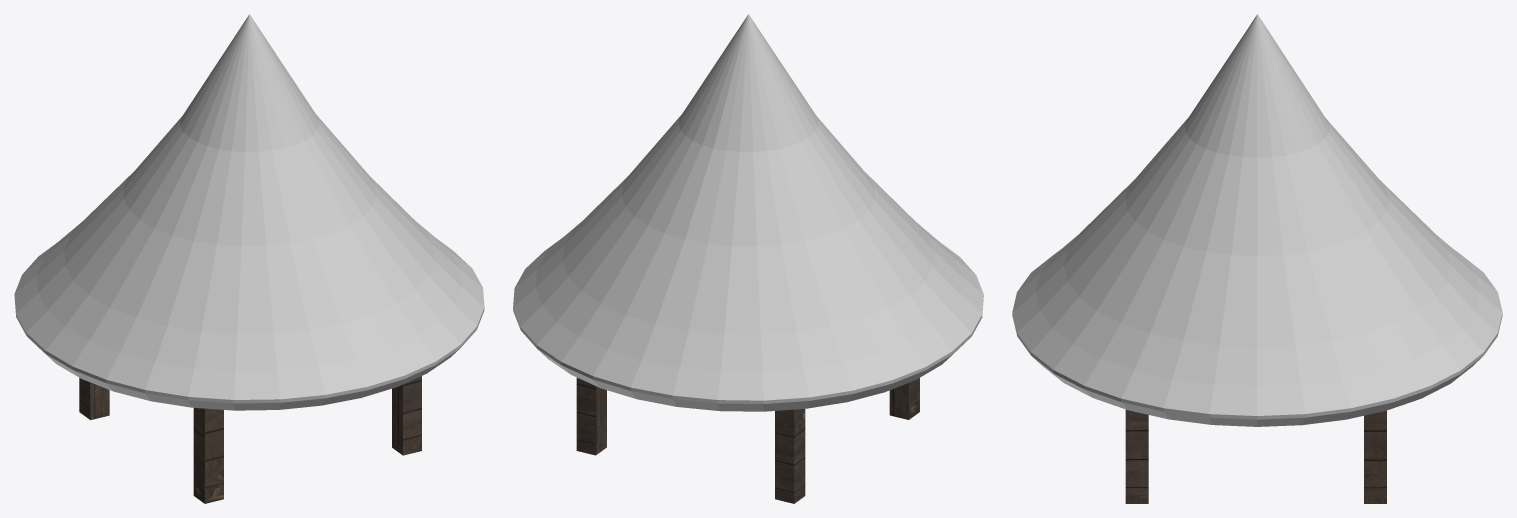
Rendered from Roof-2.fbx.
3 views of the same model, side by side, from view 1: azimuth 30°, elevation 25°; view 2: azimuth 150°, elevation 25°; view 3: azimuth 270°, elevation 25° (orthographic). The views are drawn at different scales.
Visible parts, largest first — view 1: StrechaTypA; view 2: StrechaTypA; view 3: StrechaTypA.
Part boxes in pixels (x1,y1,x2,y2): StrechaTypA: (14, 14, 484, 503); StrechaTypA: (513, 14, 983, 503); StrechaTypA: (1012, 14, 1502, 503).
Size of the model in its own units: 1708 by 1670 by 1708.
